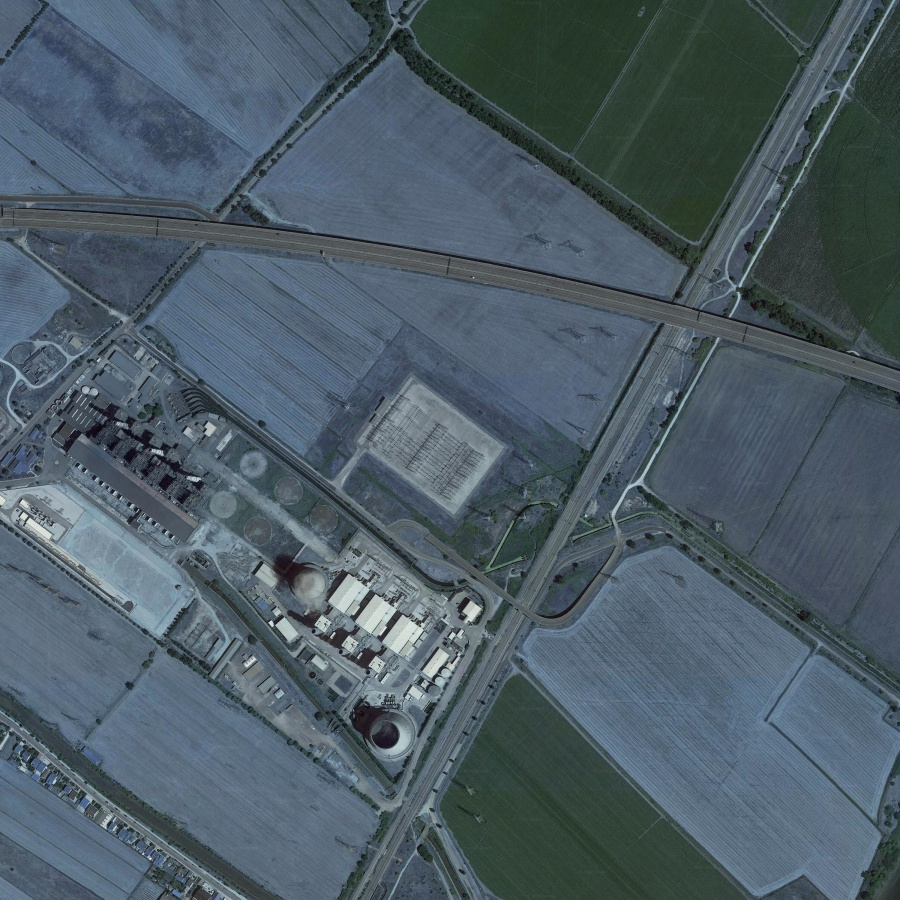PowerPlant: (25, 369, 479, 776)
